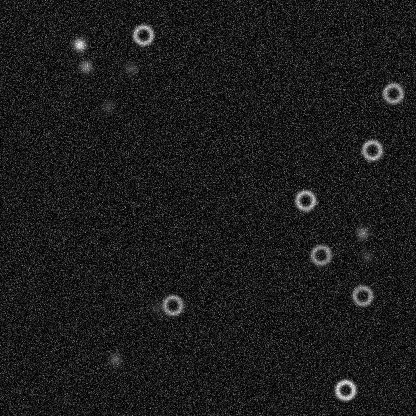Ring: (350, 283, 374, 307), (333, 377, 357, 401), (380, 81, 404, 105), (131, 22, 155, 46), (308, 242, 332, 266), (293, 188, 317, 212), (359, 138, 383, 162), (160, 293, 184, 317)
Spot: (77, 58, 93, 74), (71, 36, 87, 52), (359, 248, 375, 264), (107, 351, 123, 367), (354, 225, 370, 241), (122, 60, 138, 76), (99, 98, 115, 114), (148, 299, 164, 315)
